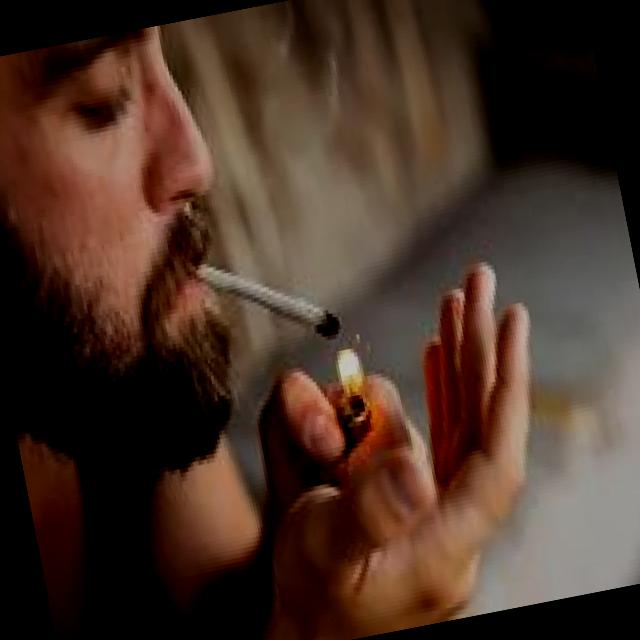smoke: (188, 232, 345, 364)
